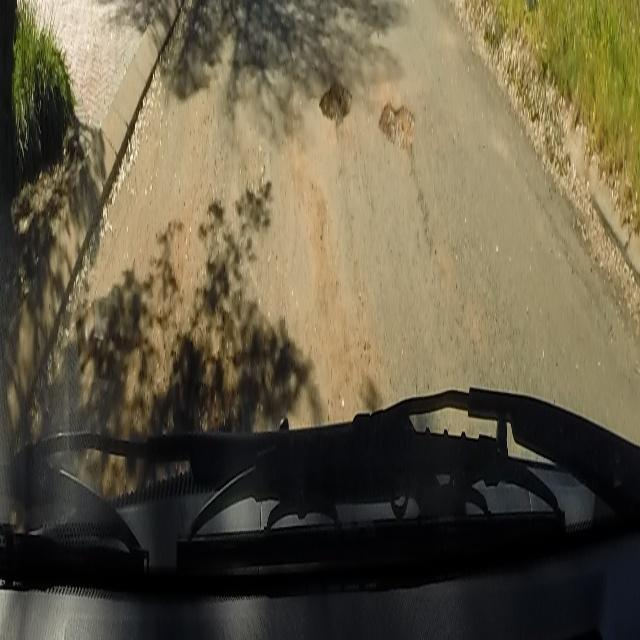pothole: (377, 96, 416, 156), (317, 80, 351, 124)
